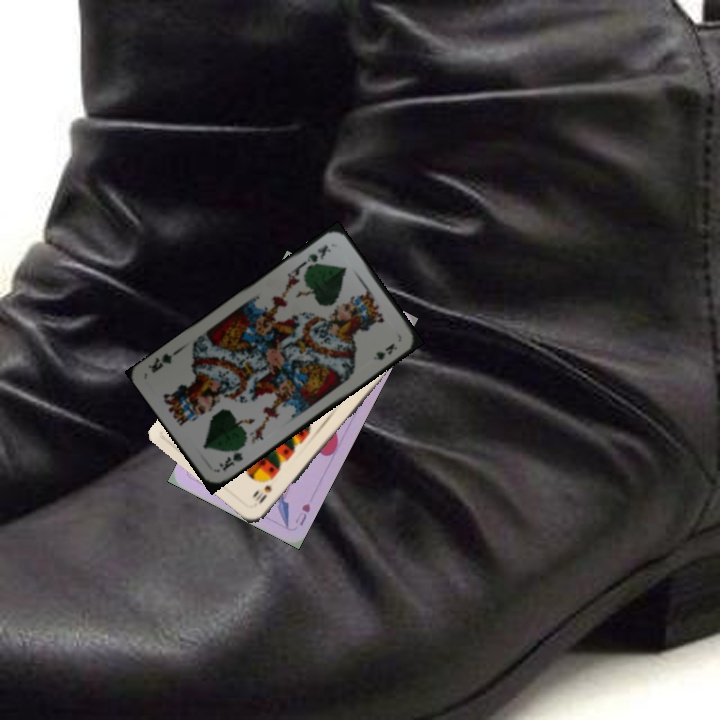GK: (215, 442, 246, 474), (298, 240, 333, 268)
HU: (291, 499, 313, 528)
S10: (251, 481, 275, 507)
